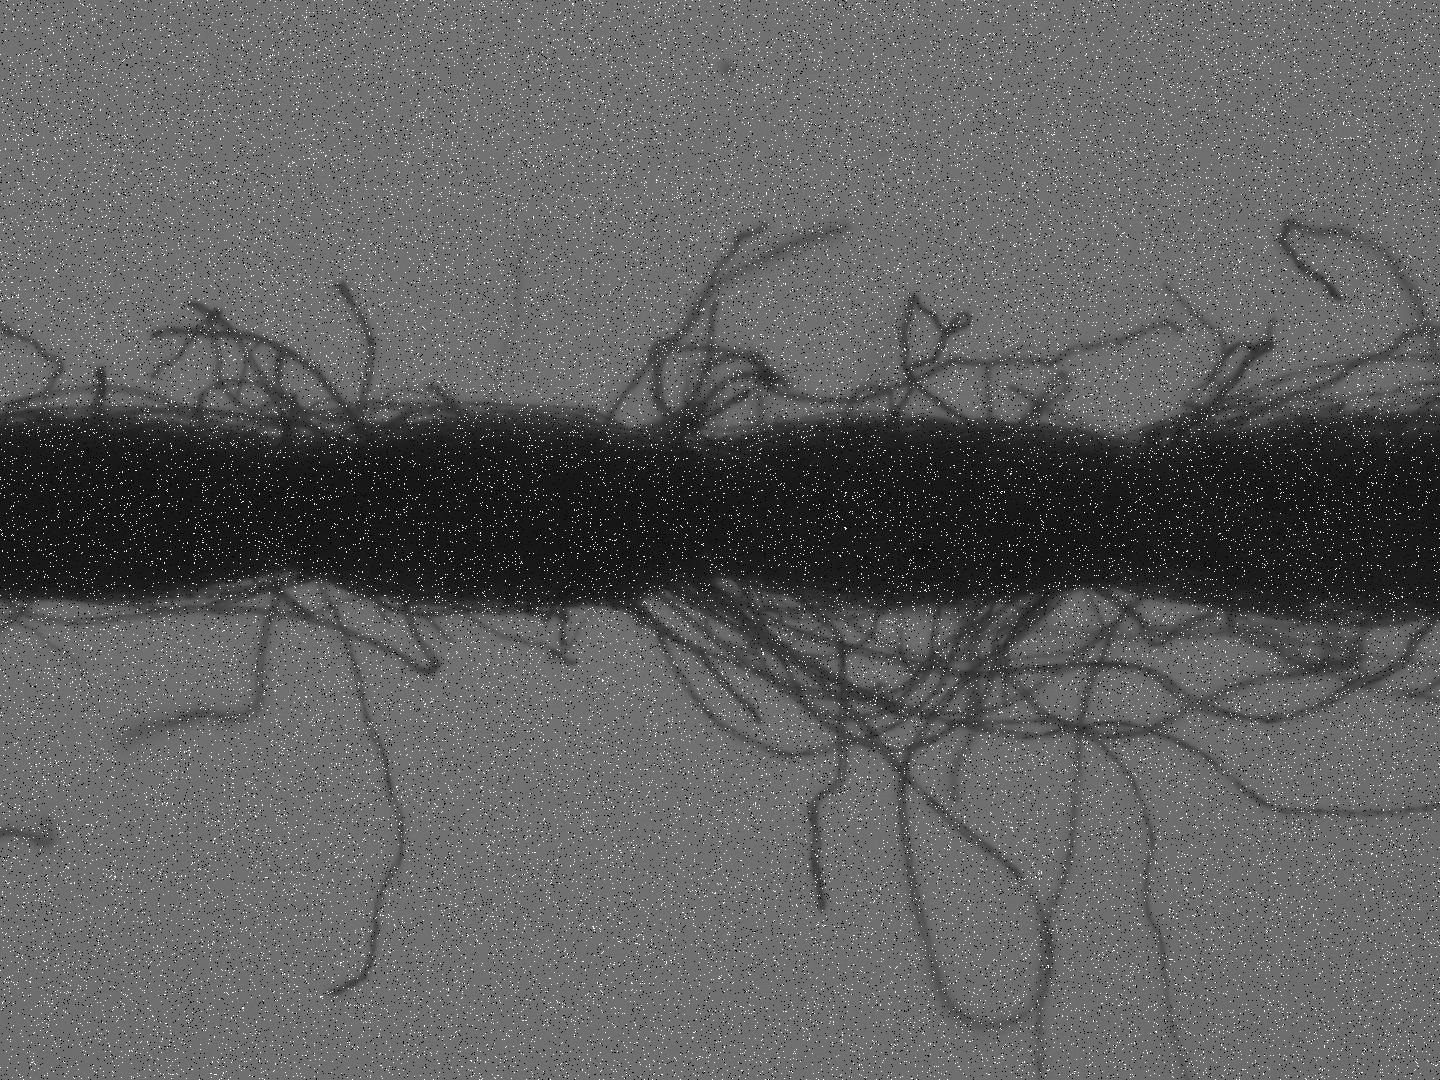loop_fiber: (124, 559, 444, 685), (1115, 337, 1278, 458), (670, 580, 886, 661), (886, 287, 983, 436), (1228, 601, 1362, 678), (1082, 585, 1213, 655), (190, 374, 293, 436), (372, 402, 495, 447), (626, 393, 708, 445), (838, 380, 899, 434), (497, 596, 579, 626)
protruding_fiber: (312, 572, 405, 1003), (334, 277, 380, 446)
